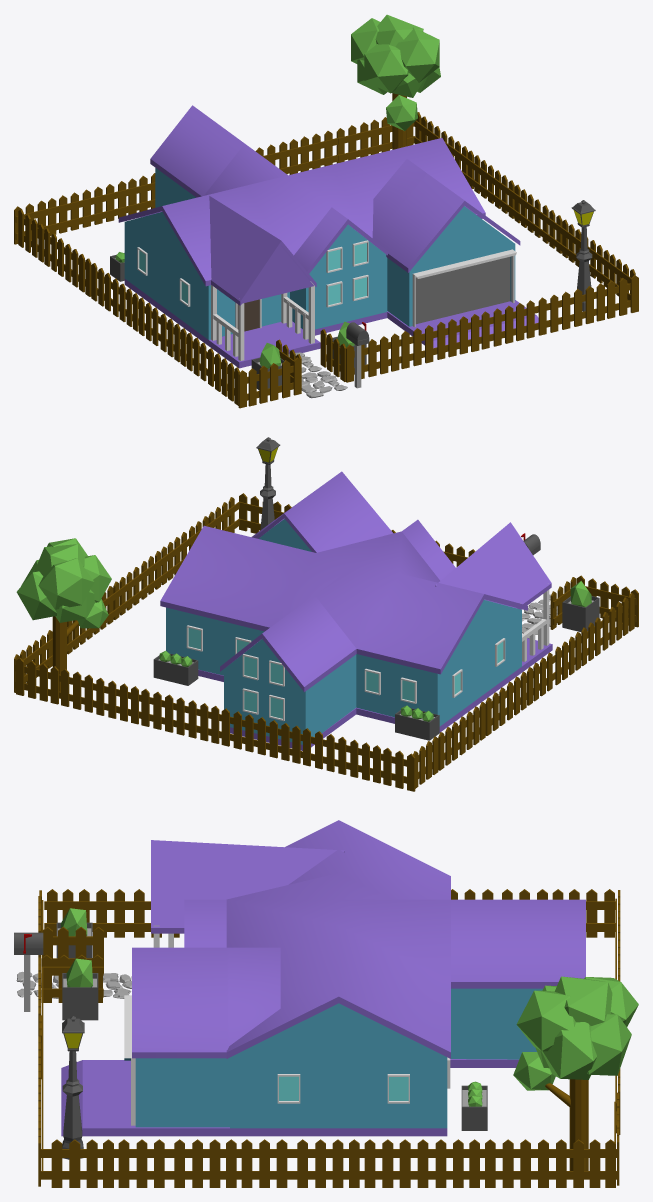
File: eee13.fbx
3 renders of one model, top to bottom at view 1: azimuth 30°, elevation 25°; view 2: azimuth 150°, elevation 25°; view 3: azimuth 270°, elevation 25°, orthographic. The views are drawn at different scales.
Visible parts, largest first — view 1: eee13; view 2: eee13; view 3: eee13.
Boxes of the visible parts, x1,y1,x2,y2 form: eee13: (14, 14, 638, 408); eee13: (14, 437, 638, 791); eee13: (14, 820, 638, 1187).
Size of the model in its own units: 25.23 by 8.74 by 26.2.
